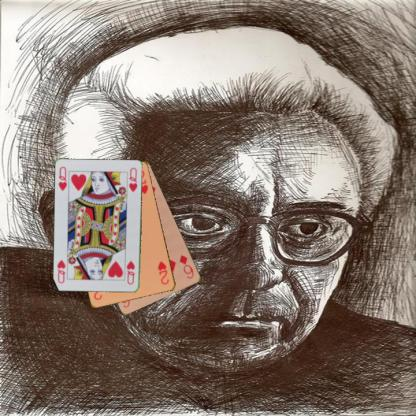2h: (156, 258, 170, 286)
6d: (177, 252, 195, 280)
Qh: (124, 258, 136, 286), (56, 164, 68, 192)
